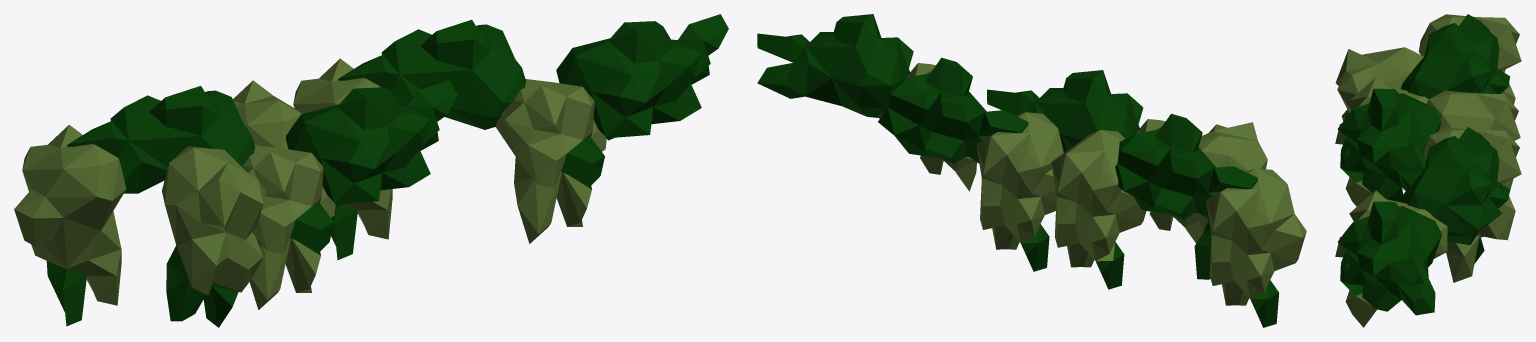
The model's file is LightVegetationWallLargeOvergrownTopper2.fbx.
3 views of the same model, side by side, from view 1: azimuth 30°, elevation 25°; view 2: azimuth 150°, elevation 25°; view 3: azimuth 270°, elevation 25° (orthographic). The views are drawn at different scales.
Visible parts, largest first — view 1: LightVegetationWallLargeOvergrownTopper2; view 2: LightVegetationWallLargeOvergrownTopper2; view 3: LightVegetationWallLargeOvergrownTopper2.
Boxes of the visible parts, box(x1,y1,x2,y2) form: LightVegetationWallLargeOvergrownTopper2: box(14, 14, 728, 327); LightVegetationWallLargeOvergrownTopper2: box(757, 14, 1306, 327); LightVegetationWallLargeOvergrownTopper2: box(1335, 14, 1521, 327).
Size of the model in its own units: 2094 by 634 by 583.
